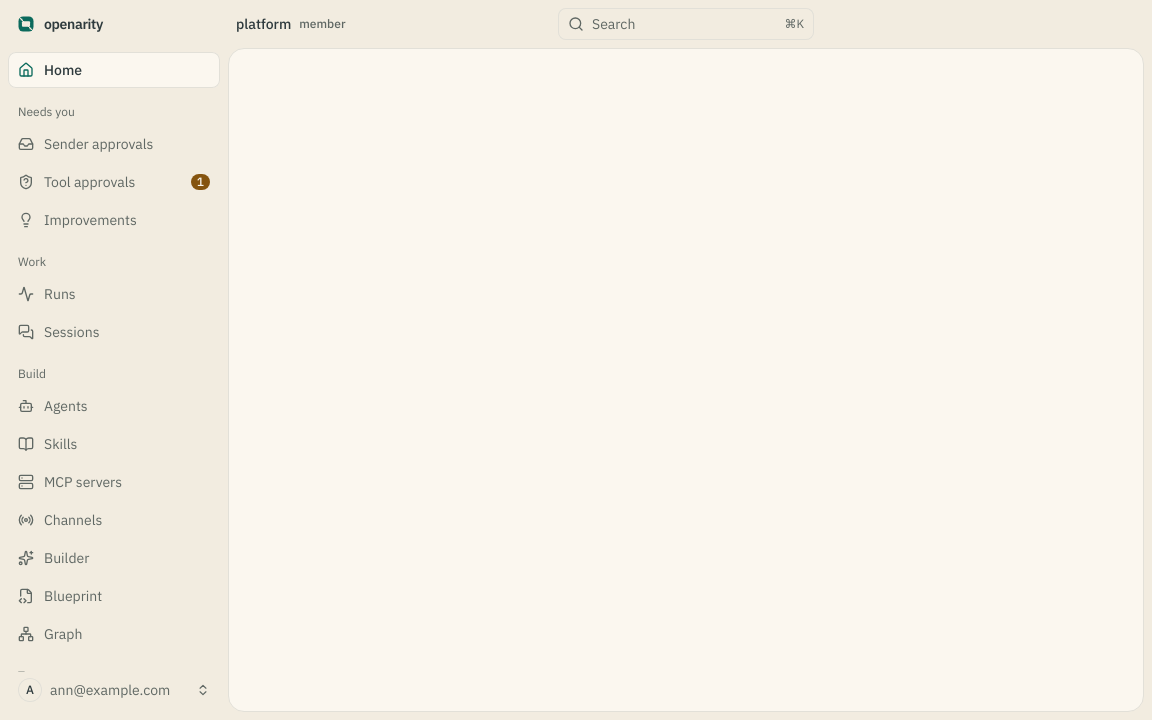
Test: notifications of approvals › stays on when a notification fails for another reason
This screenshot has width=1152, height=720.
Expected: the navigation bar named "Main" is shown, [8,52,220,672]
Click the button "A ann@example.com" at {"x": 114, "y": 690}, box [8,672,220,708]
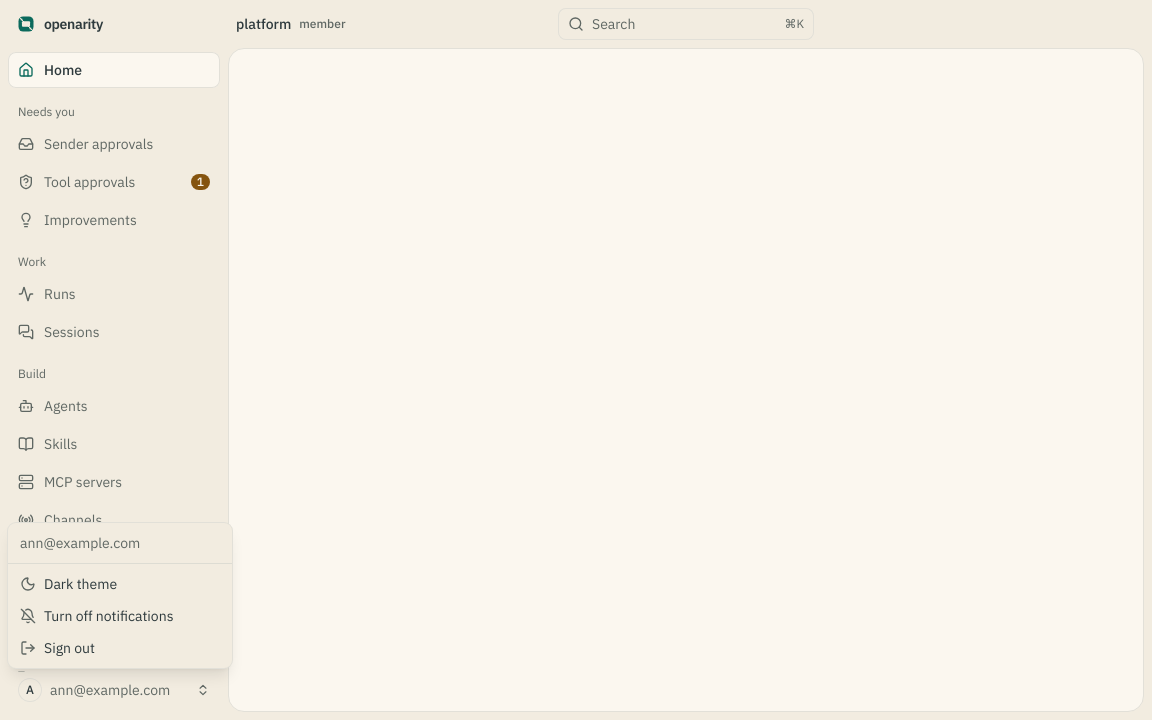
Now the menu item "Turn off notifications" is shown, box [20,607,174,625]
